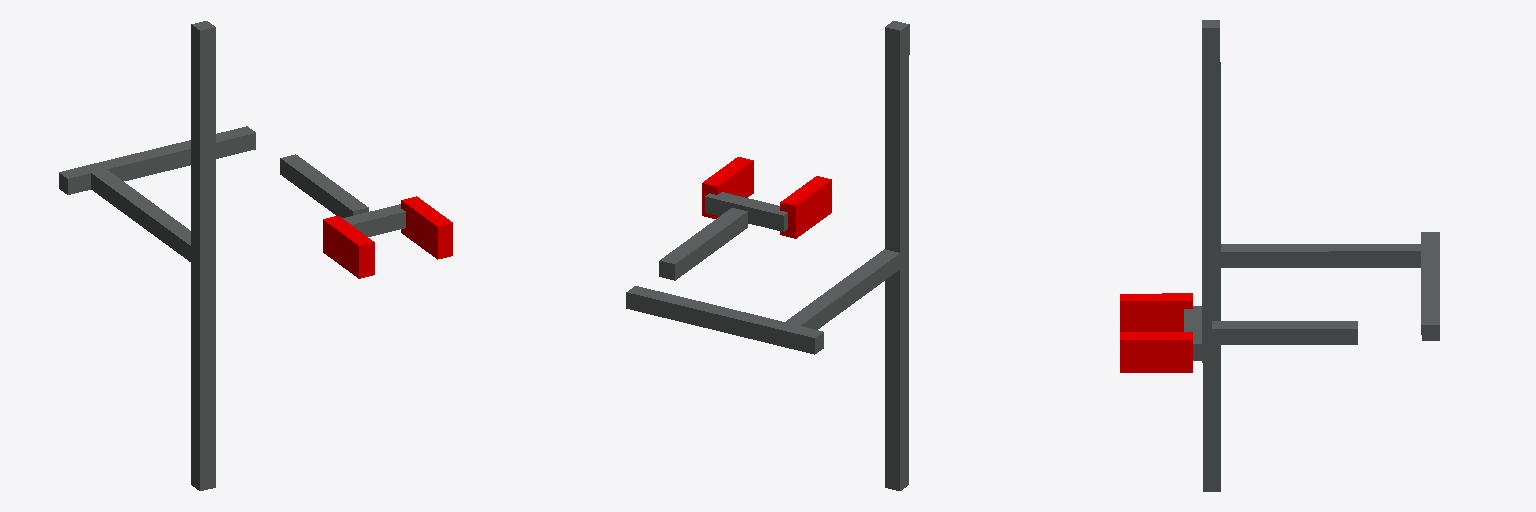
URDF robot description (robot):
<robot name="robot">
    <link name="world" />
    <joint name="base_joint" type="fixed">
        <origin xyz="-1.5 0 0" rpy="-1.57 0 0" />
        <parent link="world" />
        <child link="base" />
    </joint>
    <link name="base">

        <collision>
            <origin xyz="0 0 -0.4" rpy="0 0 0" />
            <geometry>
                <box size="0.1 2.8 0.1" />
            </geometry>
        </collision>

        <visual>
            <origin xyz="0 0 -0.4" rpy="0 0 0" />
            <geometry>
                <box size="0.1 2.8 0.1" />
            </geometry>
            <material name="">
                <color rgba="0.403 0.424 0.420 1"/>
            </material>
        </visual>
    </link>
    <joint name="link1_joint" type="prismatic">
        <origin xyz="0 0 0.0" rpy="0 0. 0." />
        <axis xyz="0. 1. 0."/>
        <parent link="base" />
        <child link="link1" />
        <limit effort="0" velocity="0" lower="-3.14159" upper="3.14159" />
    </joint>
    <link name="link1">

        <collision>
            <origin xyz="0.0 0.0 0.2" rpy="0. 0. 0." />
            <geometry>
                <box size="0.1 0.1 1.2" />
            </geometry>
        </collision>

        <visual>
            <origin xyz="0.0 0.0 0.2" rpy="0. 0. 0." />
            <geometry>
                <box size="0.1 0.1 1.2" />
            </geometry>
            <material name="">
                <color rgba="0.403 0.424 0.420 1"/>
            </material>
        </visual>
    </link>
    <joint name="link2_joint" type="prismatic">
        <origin xyz="0.0 0.0 0" rpy="0 -0 0" />
        <axis xyz="1. 0. 0."/>
        <parent link="link1" />
        <child link="link2" />
        <limit effort="0" velocity="0" lower="-3.14159" upper="3.14159" />
    </joint>
    <link name="link2">

        <collision>
            <origin xyz="0.4 0.0 0.8" rpy="0. 0. 0." />
            <geometry>
                <box size="1.2 0.1 0.1" />
            </geometry>
        </collision>

        <visual>
            <origin xyz="0.4 0.0 0.8" rpy="0. 0. 0." />
            <geometry>
                <box size="1.2 0.1 0.1" />
            </geometry>
            <material name="">
                <color rgba="0.403 0.424 0.420 1"/>
            </material>
        </visual>
    </link>
    <joint name="link3_joint" type="prismatic">
        <origin xyz="0.0 0.0 0" rpy="0 0 0" />
        <axis xyz="0. 0. 1."/>
        
        <parent link="link2" />
        <child link="link3" />
        <limit effort="0" velocity="0" lower="-5" upper="5" />
    </joint>
    <link name="link3">
        <collision>
            <origin xyz="1.0 0 0" rpy="0. 0. 0." />
            <geometry>
                <!-- <capsule radius="0.2"length="2" /> -->
                <box size="0.1 0.1 0.8"/>
            </geometry>
        </collision>

        <visual>
            <origin xyz="1.0 0 0" rpy="0. 0. 0." />
            <geometry>
                <!-- <capsule radius="0.2"length="2" /> -->
                <box size="0.1 0.1 0.8"/>
            </geometry>
            <material name="">
                <color rgba="0.403 0.424 0.420 1"/>
            </material>
        </visual>
    </link>
    <joint name="end_effctor_joint" type="fixed">
        <origin xyz="1.0 0 -0.5" rpy="0.0 0. 1.5708" />
        <parent link="link3" />
        <child link="end_effector" />
        <limit effort="0" velocity="0" lower="-3.14159" upper="3.14159" />
    </joint>
    <link name="end_effector">
        <collision>
            <origin xyz="0.0 0 0" rpy="0. 1.5708 0" />
            <geometry>
                <box size="0.1 0.5 0.1" />
            </geometry>
        </collision>
        <visual>
            <origin xyz="0.0 0 0" rpy="0 1.5708 0" />
            <geometry>
                <box size="0.1 0.5 0.1" />
            </geometry>
            <material name="">
                <color rgba="0.403 0.424 0.420 1"/>
            </material>
        </visual>
    </link>
    <joint name="left_pad_joint" type="revolute">
        <origin xyz="0.0 -0.25 -0.0" rpy="0. 0. 0." />
        <parent link="end_effector" />
        <child link="left_pad" />
        <limit effort="0" velocity="0" lower="0" upper="0.2" />
    </joint>
    <link name="left_pad">
        <collision>
            <origin xyz="0 0.0 -0.2" rpy="0 -0 0" />
            <geometry>
                <box size="0.1 0.2 0.4" />
            </geometry>
        </collision>
        <visual>
            <origin xyz="0 0.0 -0.2" rpy="0 -0 0" />
            <geometry>
                <box size="0.2 0.1 0.4" />
            </geometry>
            <material name="">
                <color rgba="1 0 0 1"/>
            </material>
        </visual>
    </link>
    <joint name="right_pad_joint" type="revolute">
        <origin xyz="0.0 0.25 0.0" rpy="0 0. 0." />
        <parent link="end_effector" />
        <child link="right_pad" />
        <limit effort="0" velocity="0" lower="0" upper="0.2" />
    </joint>
    <link name="right_pad">
        <collision>
            <origin xyz="0 0.0 -0.2" rpy="0 -0 0" />
            <geometry>
                <box size="0.1 0.2 0.4" />
            </geometry>
        </collision>
        <visual>
            <origin xyz="0 0.0 -0.2" rpy="0 -0 0" />
            <geometry>
                <box size="0.2 0.1 0.4" />
            </geometry>
            <material name="">
                <color rgba="1 0 0 1"/>
            </material>
        </visual>
    </link>
</robot>

--- What the picture shows (computed from the rendered views, not written in the file) ---
Views: 3 orthographic renders of the robot side by side, from view 1: azimuth 30°, elevation 25°; view 2: azimuth 150°, elevation 25°; view 3: azimuth 270°, elevation 25°.
Model robot with 8 links and 7 joints (2 revolute, 3 prismatic, 2 fixed), rooted at world, posed all joints at 0.
Visible links, largest first — view 1: base, link2, link1, link3, right_pad, left_pad, end_effector; view 2: base, link2, link1, link3, right_pad, end_effector, left_pad; view 3: base, link1, link3, left_pad, right_pad, link2, end_effector.
Boxes of the visible links, x1=… form: base: x1=191, y1=21, x2=215, y2=490; link2: x1=59, y1=126, x2=255, y2=194; link1: x1=91, y1=166, x2=195, y2=263; link3: x1=280, y1=154, x2=368, y2=217; right_pad: x1=323, y1=216, x2=374, y2=278; left_pad: x1=401, y1=196, x2=452, y2=259; end_effector: x1=342, y1=204, x2=405, y2=236; base: x1=885, y1=21, x2=909, y2=490; link2: x1=626, y1=286, x2=823, y2=354; link1: x1=782, y1=249, x2=904, y2=329; link3: x1=659, y1=208, x2=747, y2=280; right_pad: x1=780, y1=176, x2=831, y2=238; end_effector: x1=705, y1=192, x2=787, y2=231; left_pad: x1=702, y1=157, x2=753, y2=218; base: x1=1202, y1=20, x2=1220, y2=491; link1: x1=1212, y1=244, x2=1430, y2=267; link3: x1=1212, y1=321, x2=1357, y2=344; left_pad: x1=1120, y1=332, x2=1192, y2=372; right_pad: x1=1120, y1=293, x2=1192, y2=331; link2: x1=1421, y1=232, x2=1439, y2=340; end_effector: x1=1184, y1=306, x2=1201, y2=360.
Bounding box of the posed robot: 1.5 × 1.75 × 2.8 m (x, y, z).
Geometry: primitives only (box / cylinder / sphere), no mesh files.